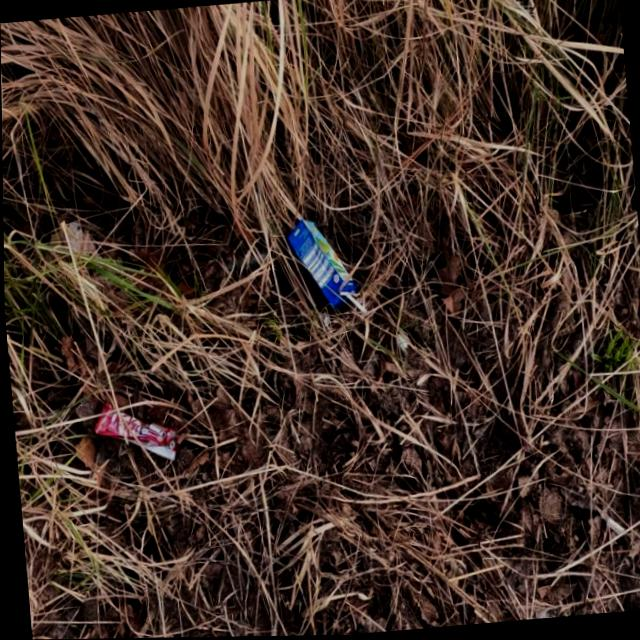Plastic: (88, 397, 178, 468)
